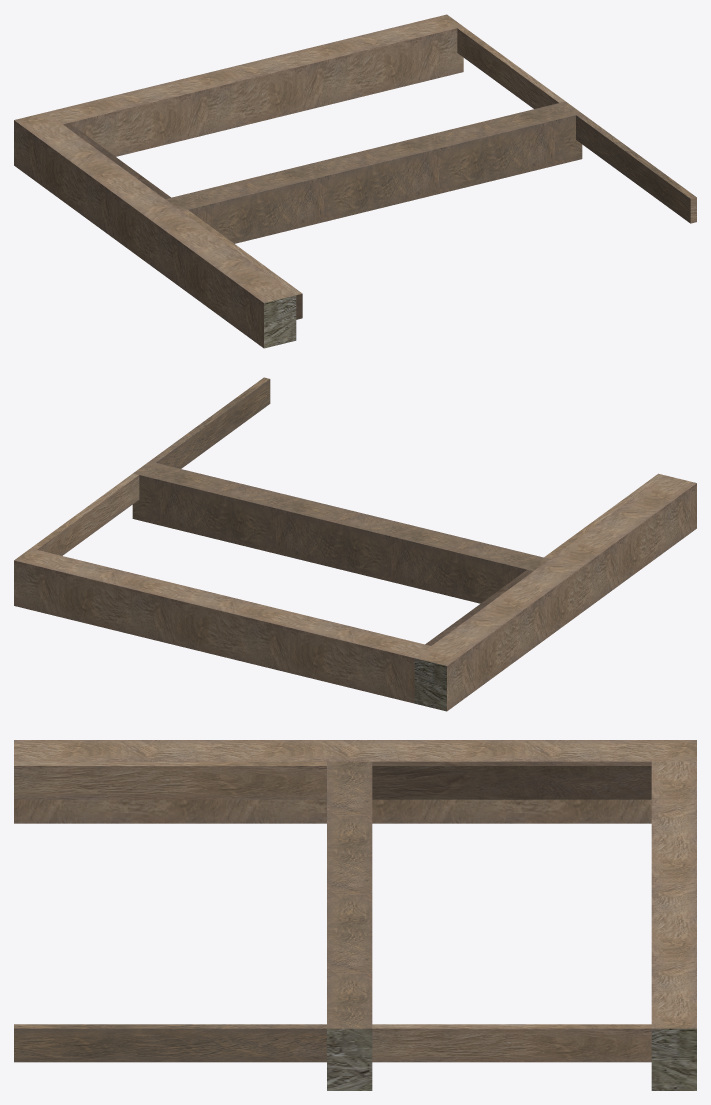
File: RafterCenterE.fbx
The picture shows the model from 3 angles, top to bottom: view 1: azimuth 30°, elevation 25°; view 2: azimuth 150°, elevation 25°; view 3: azimuth 270°, elevation 25°; orthographic projection. The views are drawn at different scales.
Parts seen in each view (by area): view 1: RafterCenterE; view 2: RafterCenterE; view 3: RafterCenterE.
Part boxes in pixels (x1,y1,x2,y2): RafterCenterE: (14, 14, 696, 348); RafterCenterE: (14, 377, 696, 711); RafterCenterE: (14, 740, 696, 1090).
Size of the model in its own units: 404 by 40.53 by 404.
